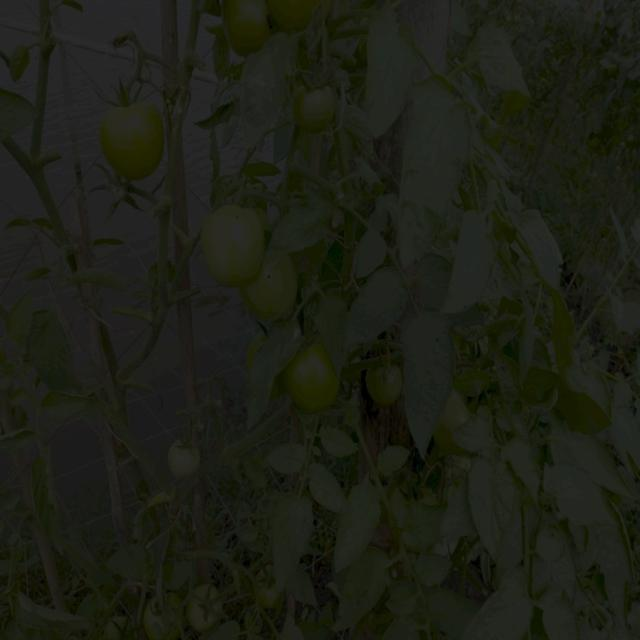tomato: (105, 105, 168, 183), (206, 208, 267, 288), (249, 248, 302, 324), (286, 342, 341, 412), (218, 1, 271, 60), (296, 84, 340, 135), (190, 577, 224, 633), (432, 397, 476, 438), (271, 1, 326, 32), (371, 360, 401, 405), (167, 435, 196, 481), (145, 599, 175, 637), (106, 611, 137, 640), (488, 121, 511, 155)
